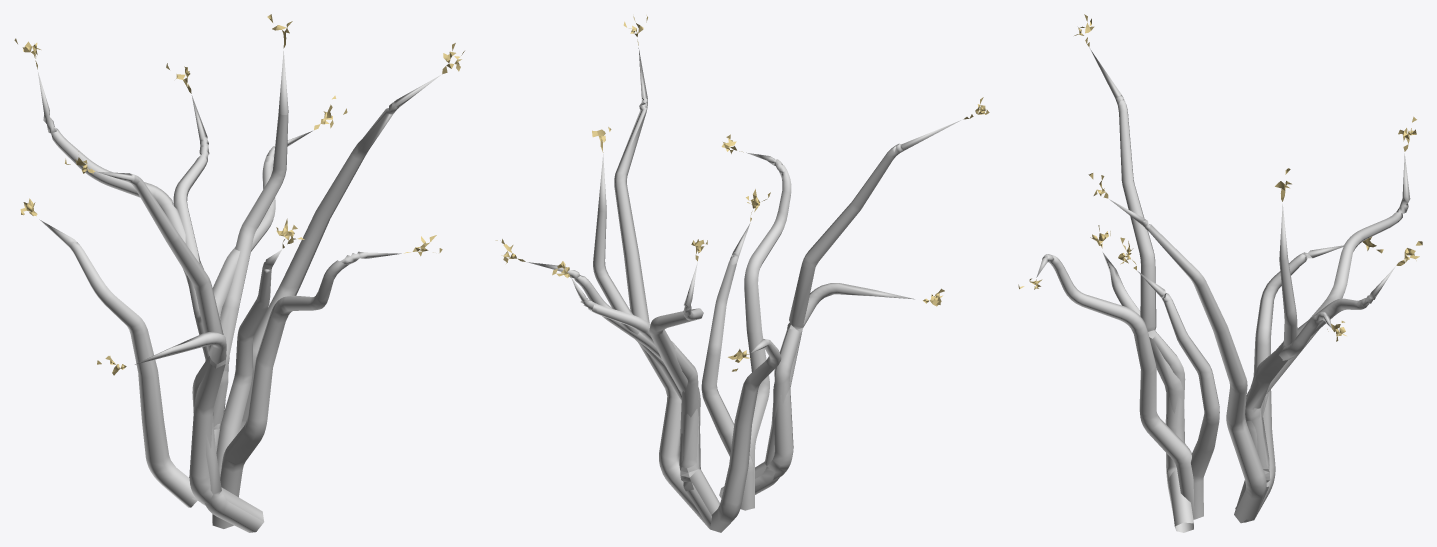
The model's file is pointy_coral.fbx.
3 renders of one model, left to right at view 1: azimuth 30°, elevation 25°; view 2: azimuth 150°, elevation 25°; view 3: azimuth 270°, elevation 25°, orthographic. The views are drawn at different scales.
Parts seen in each view (by area): view 1: Plane; view 2: Plane; view 3: Plane.
Part boxes in pixels (left/top/right/bottom): Plane: left=14, top=14, right=464, bottom=532; Plane: left=495, top=15, right=989, bottom=532; Plane: left=1018, top=14, right=1422, bottom=532.
Bounding box in the file's own units: 92.31 × 102 × 87.95.
